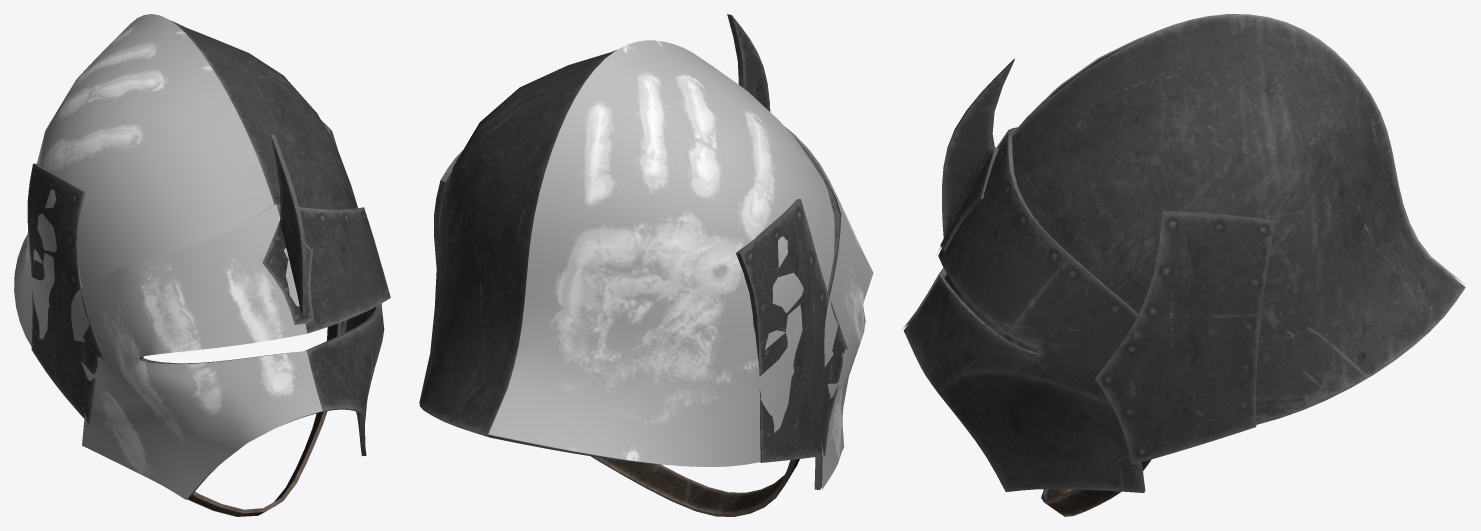
The model's file is sk_uruk_hai_helmet_spear_med_a2.fbx.
3 renders of one model, left to right at view 1: azimuth 30°, elevation 25°; view 2: azimuth 150°, elevation 25°; view 3: azimuth 270°, elevation 25°, orthographic. The views are drawn at different scales.
Visible parts, largest first — view 1: sk_uruk_hai_helmet_spear_med_a2.0, sk_uruk_hai_helmet_spear_med_a2.2, sk_uruk_hai_helmet_spear_med_a2.1; view 2: sk_uruk_hai_helmet_spear_med_a2.0, sk_uruk_hai_helmet_spear_med_a2.2, sk_uruk_hai_helmet_spear_med_a2.1; view 3: sk_uruk_hai_helmet_spear_med_a2.2, sk_uruk_hai_helmet_spear_med_a2.0, sk_uruk_hai_helmet_spear_med_a2.1.
Part boxes in pixels (bbox=[...]): sk_uruk_hai_helmet_spear_med_a2.0: bbox=[14, 14, 322, 499]; sk_uruk_hai_helmet_spear_med_a2.2: bbox=[27, 20, 390, 499]; sk_uruk_hai_helmet_spear_med_a2.1: bbox=[188, 322, 341, 516]; sk_uruk_hai_helmet_spear_med_a2.0: bbox=[488, 40, 873, 489]; sk_uruk_hai_helmet_spear_med_a2.2: bbox=[419, 14, 847, 489]; sk_uruk_hai_helmet_spear_med_a2.1: bbox=[590, 456, 799, 516]; sk_uruk_hai_helmet_spear_med_a2.2: bbox=[903, 15, 1465, 492]; sk_uruk_hai_helmet_spear_med_a2.0: bbox=[903, 14, 1463, 328]; sk_uruk_hai_helmet_spear_med_a2.1: bbox=[1041, 459, 1151, 516].
Size of the model in its own units: 0.2102 by 0.3248 by 0.3133.
3 materials, 3 textured.
